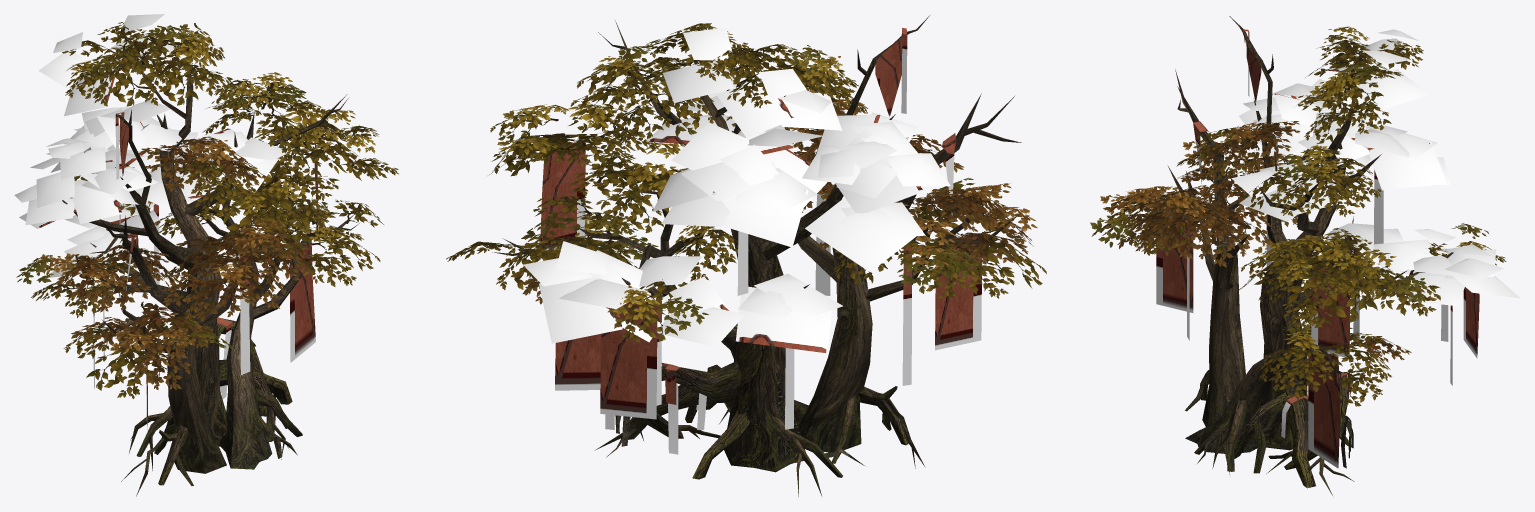
Rendered from 4005_Item_shu_2.FBX.
3 renders of one model, left to right at view 1: azimuth 30°, elevation 25°; view 2: azimuth 150°, elevation 25°; view 3: azimuth 270°, elevation 25°, orthographic. The views are drawn at different scales.
Visible parts, largest first — view 1: 4005_Item_shu_2; view 2: 4005_Item_shu_2; view 3: 4005_Item_shu_2.
Part boxes in pixels (x1,y1,x2,y2): 4005_Item_shu_2: [14, 14, 398, 496]; 4005_Item_shu_2: [446, 15, 1046, 496]; 4005_Item_shu_2: [1090, 16, 1520, 495].
Bounding box in the file's own units: 772 × 725 × 725.
